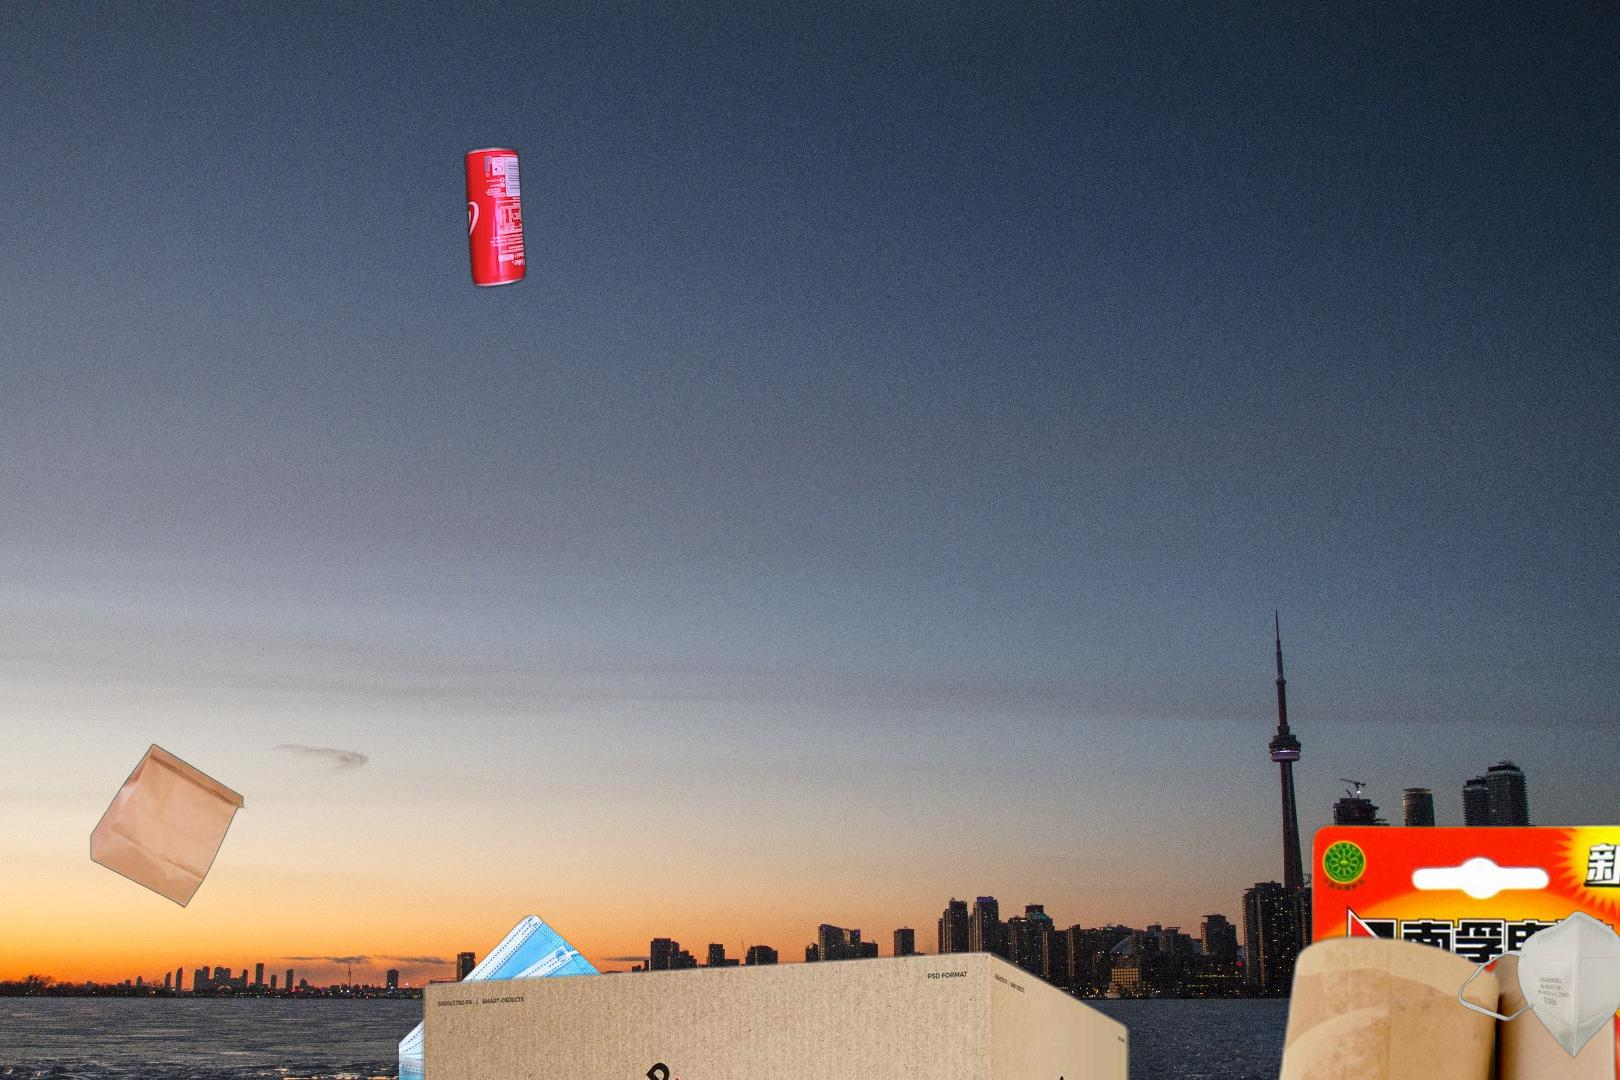battery: (1297, 808, 1620, 1080)
metal-cans: (460, 140, 532, 293)
paper-bag: (88, 741, 251, 910)
trash: (399, 915, 624, 1080), (1455, 908, 1620, 1061)
trashbox-cardboard: (526, 914, 1246, 1080), (962, 926, 1620, 1080), (413, 944, 1140, 1080)
